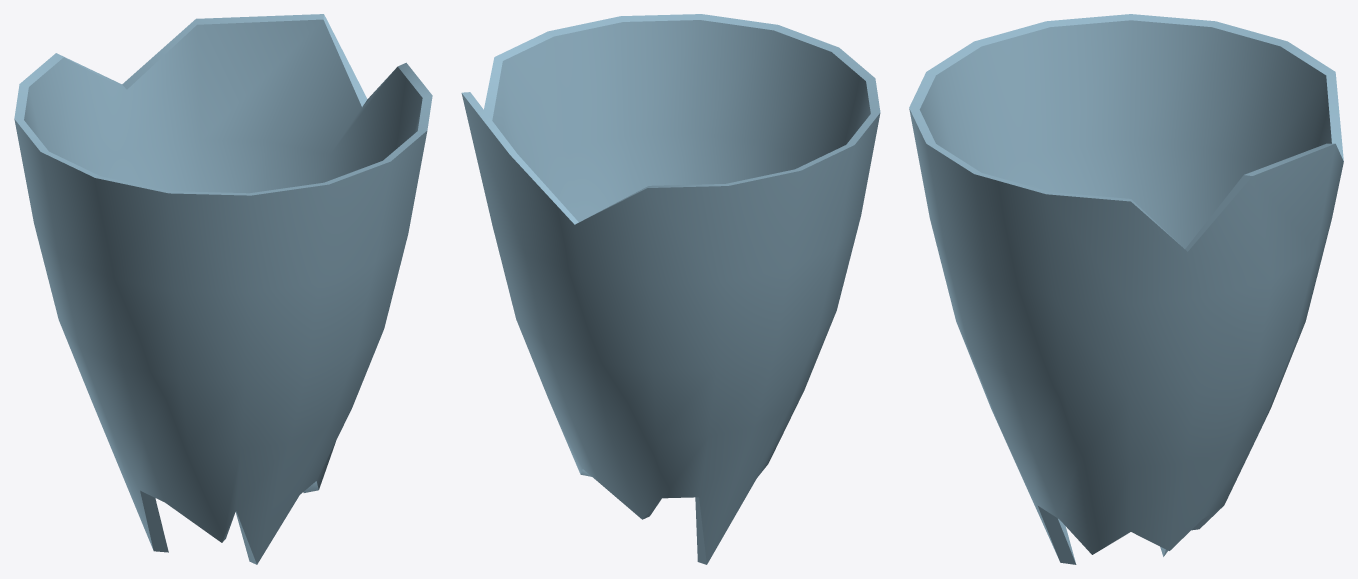
The model's file is Vaso_02.fbx.
3 views of the same model, side by side, from view 1: azimuth 30°, elevation 25°; view 2: azimuth 150°, elevation 25°; view 3: azimuth 270°, elevation 25° (orthographic). The views are drawn at different scales.
Parts seen in each view (by area): view 1: Vaso_02; view 2: Vaso_02; view 3: Vaso_02.
Boxes of the visible parts, <box> form: Vaso_02: <box>14,14,432,564</box>; Vaso_02: <box>461,14,880,564</box>; Vaso_02: <box>909,14,1343,564</box>.
Bounding box in the file's own units: 30.9 × 37.07 × 30.28.
